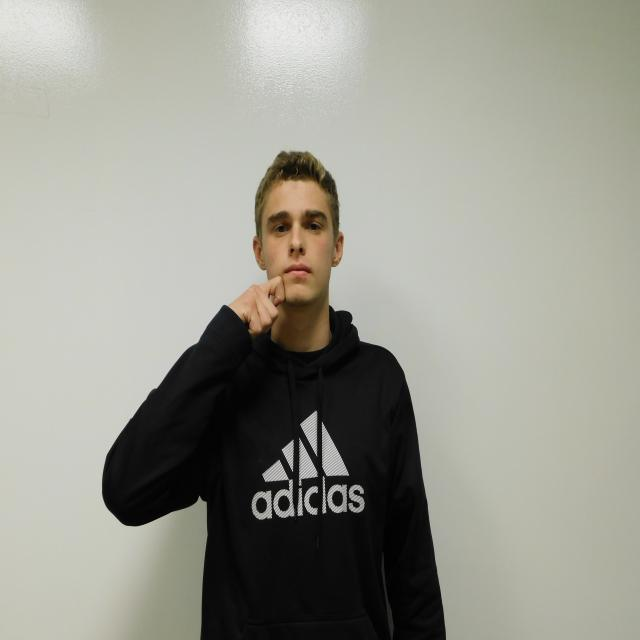apple: (229, 276, 285, 336)
